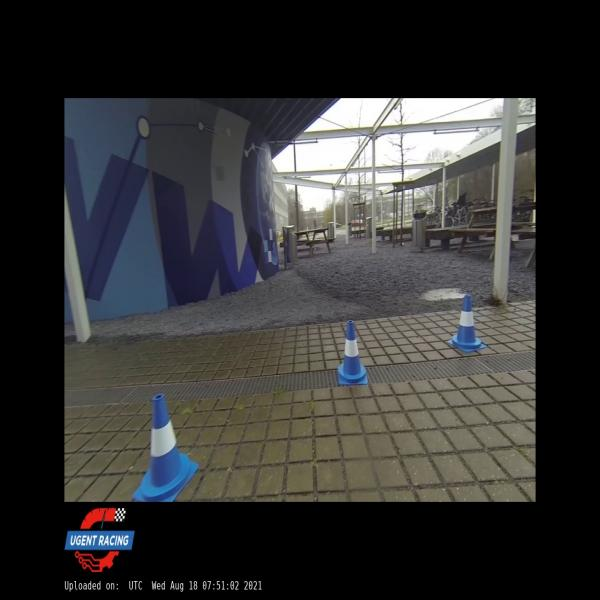blue_cone: (131, 394, 198, 502), (448, 295, 486, 352), (338, 320, 368, 384)
